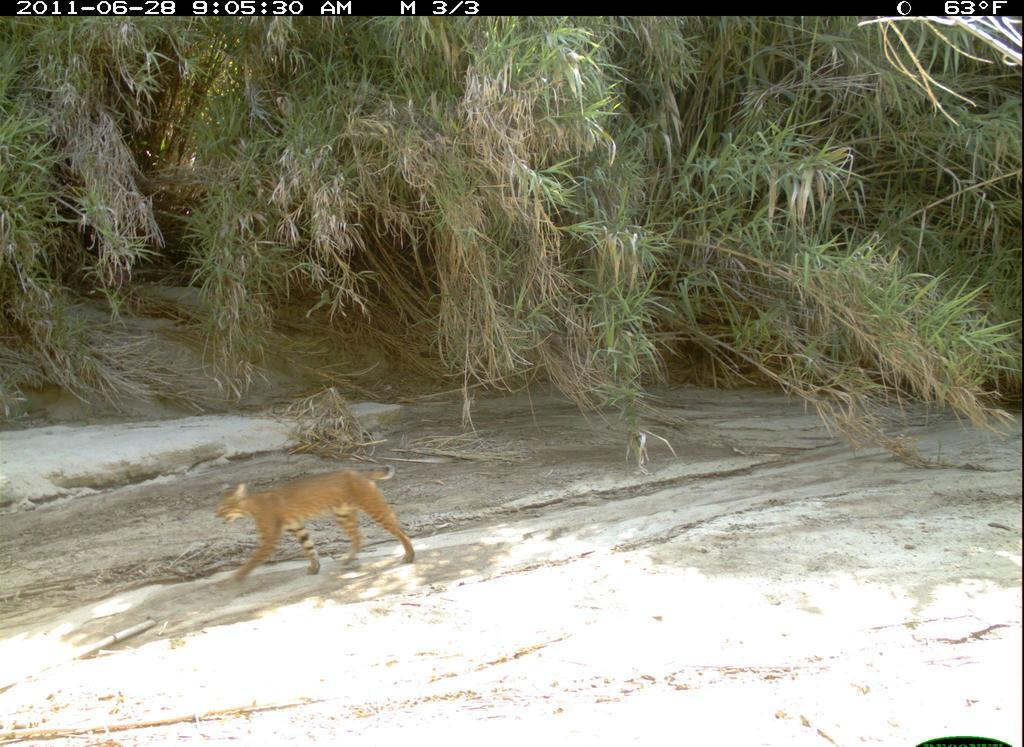bobcat: (205, 449, 446, 597)
